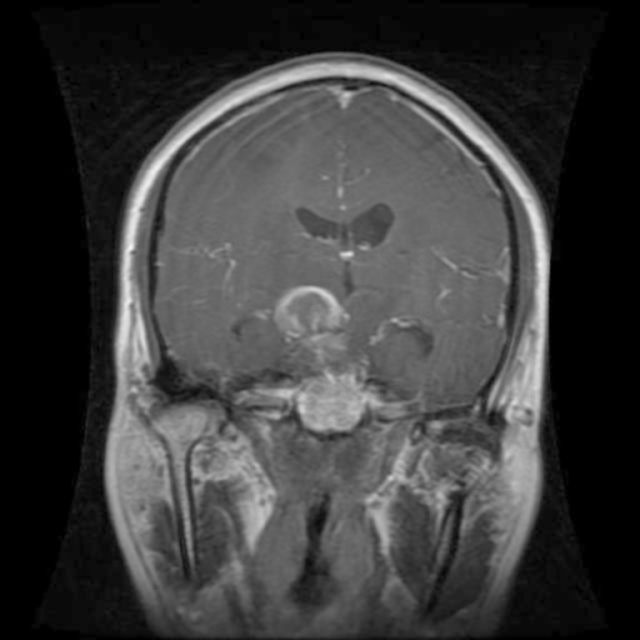pituitary tumor: (275, 282, 344, 338)
